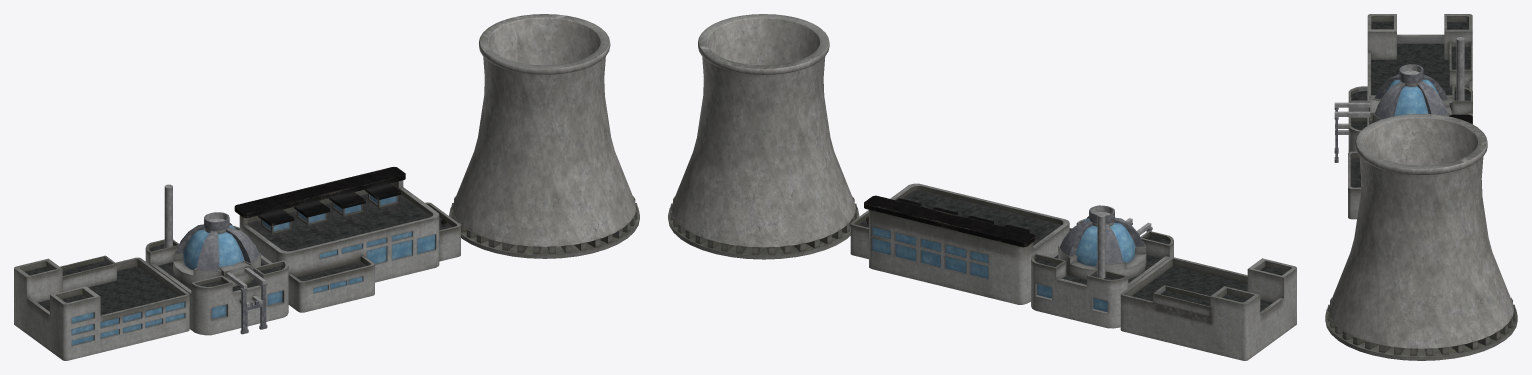
File: Lab.fbx
3 views of the same model, side by side, from view 1: azimuth 30°, elevation 25°; view 2: azimuth 150°, elevation 25°; view 3: azimuth 270°, elevation 25° (orthographic).
Parts seen in each view (by area): view 1: Truba, Zdanie_Cheh, Zdanie_office, Zdanie_Centr; view 2: Truba, Zdanie_Cheh, Zdanie_office, Zdanie_Centr; view 3: Truba, Zdanie_office, Zdanie_Centr, Zdanie_Cheh.
Part boxes in pixels (x1=…): Truba: x1=449, y1=14, x2=639, y2=258; Zdanie_Cheh: x1=234, y1=167, x2=460, y2=312; Zdanie_office: x1=14, y1=255, x2=189, y2=360; Zdanie_Centr: x1=145, y1=184, x2=288, y2=335; Truba: x1=668, y1=14, x2=859, y2=259; Zdanie_Cheh: x1=850, y1=183, x2=1071, y2=304; Zdanie_office: x1=1120, y1=257, x2=1296, y2=360; Zdanie_Centr: x1=1031, y1=205, x2=1173, y2=328; Truba: x1=1325, y1=114, x2=1517, y2=360; Zdanie_office: x1=1367, y1=14, x2=1472, y2=97; Zdanie_Centr: x1=1334, y1=37, x2=1472, y2=162; Zdanie_Cheh: x1=1348, y1=114, x2=1472, y2=219.
Size of the model in its own units: 14217 by 4090 by 3987.
